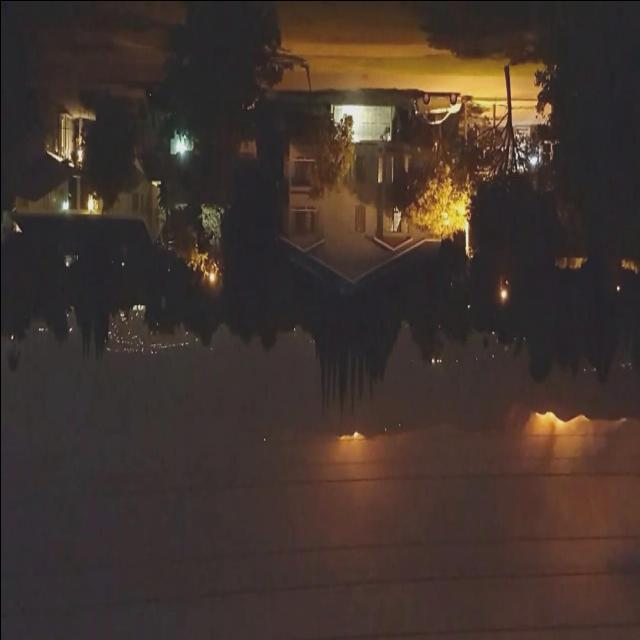Fire: (534, 409, 590, 431), (338, 430, 365, 446)
